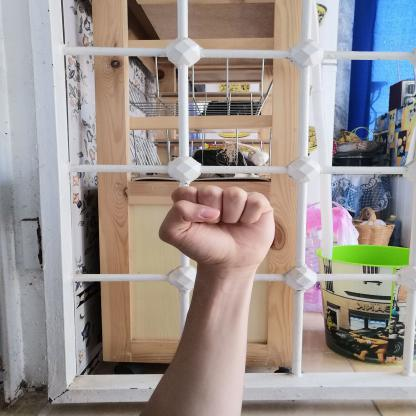SAD: (140, 173, 288, 276)
